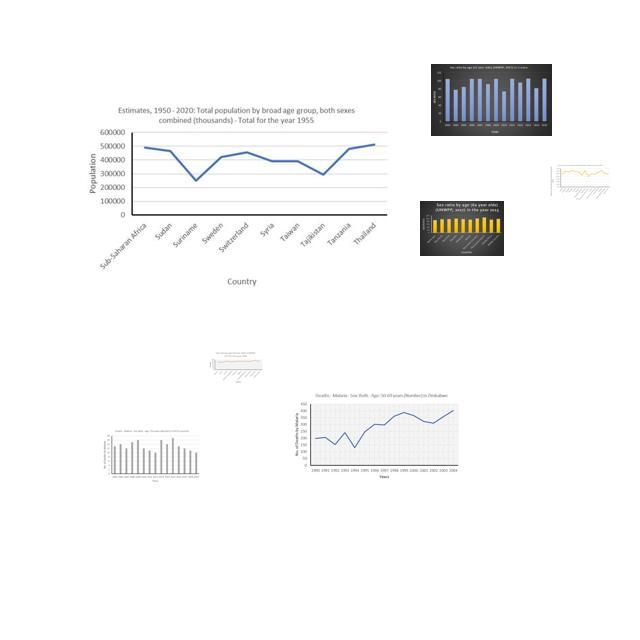Graph: (82, 102, 393, 288), (291, 390, 460, 482), (431, 64, 552, 136), (101, 428, 201, 484), (420, 201, 504, 256), (548, 163, 612, 201), (208, 351, 263, 383)
